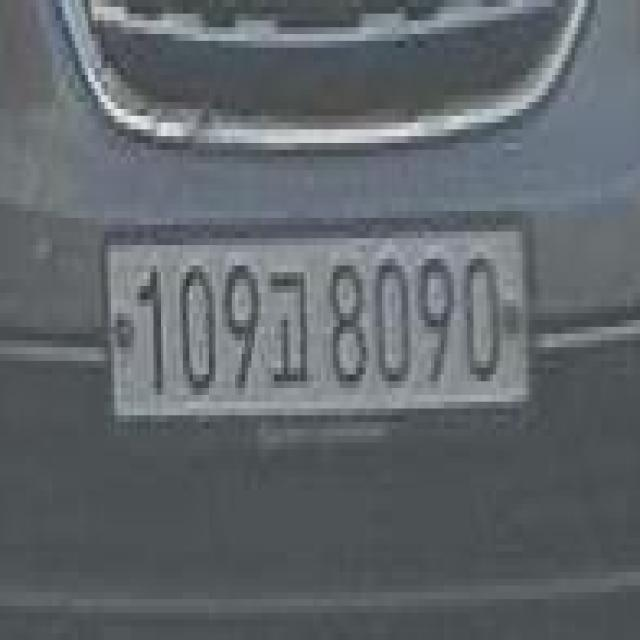illegal_plate: (101, 208, 534, 451)
